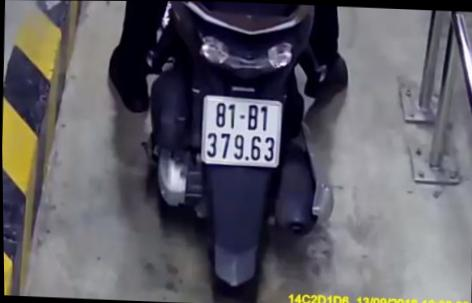LP: (201, 95, 284, 168)
